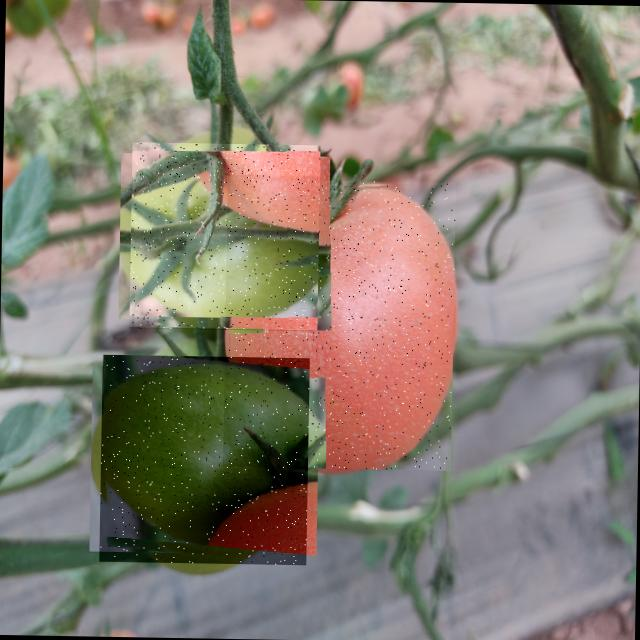Ripe Tomato: (222, 179, 456, 471)
Unripe Tomato: (98, 354, 310, 565), (129, 142, 320, 334)
